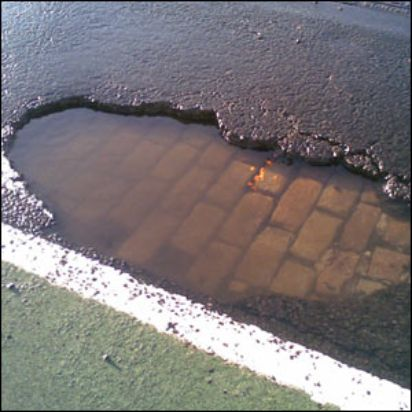pothole: (1, 84, 412, 306)
